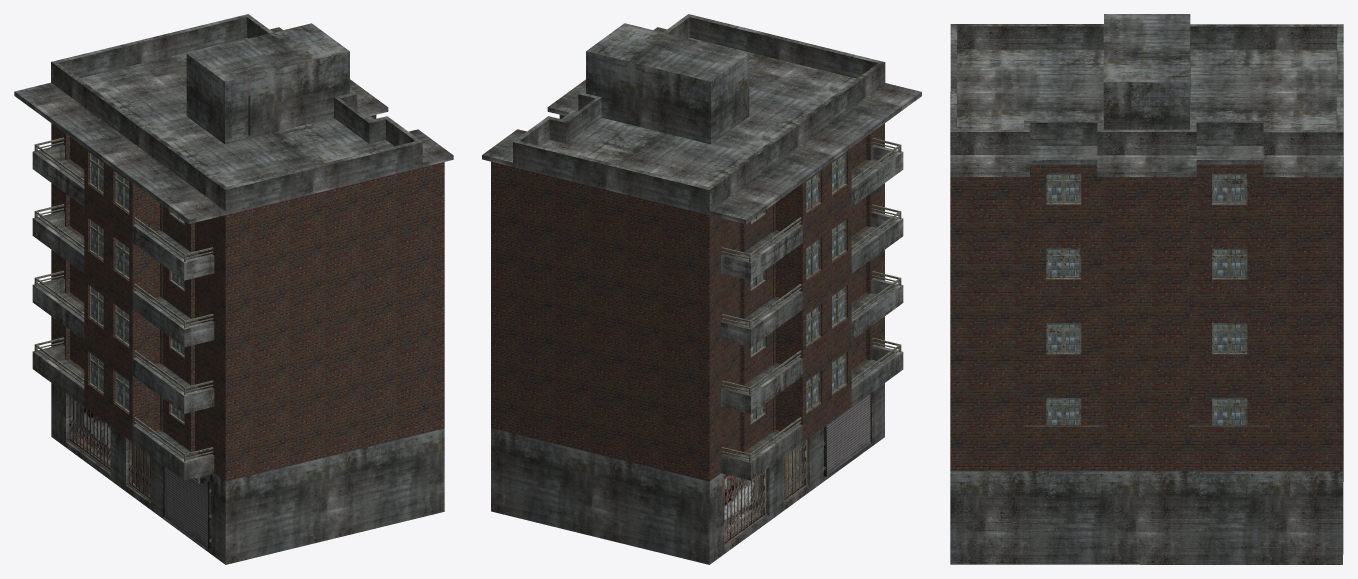
Rendered from hotel_neighbor.glb.
3 renders of one model, left to right at view 1: azimuth 30°, elevation 25°; view 2: azimuth 150°, elevation 25°; view 3: azimuth 270°, elevation 25°, orthographic. The views are drawn at different scales.
Visible parts, largest first — view 1: baseficio__1_Mat.4.4_0, baseficio__1_2_1_Mat_0, walls_Mat_0, balcony_2_Mat_0, balconyrails_Mat.1_0, garagedoor_1_f273f245.dds_0, frames_1_Mat_0, glassfront_Mat_0, Gate_1_234264e5.dds_0, steel_3_Mat_0, Gate2_234264e5.dds_0, Call38_2_2_Mat_0; view 2: baseficio__1_Mat.4.4_0, baseficio__1_2_1_Mat_0, walls_Mat_0, balcony_2_Mat_0, balconyrails_Mat.1_0, frames_1_Mat_0, garagedoor_1_f273f245.dds_0, glassfront_Mat_0, Gate_1_234264e5.dds_0, steel_3_Mat_0, Gate2_234264e5.dds_0; view 3: baseficio__1_Mat.4.4_0, baseficio__1_2_1_Mat_0, walls_Mat_0, glassfront_Mat_0, frames_1_Mat_0.
Part boxes in pixels (x1,y1,x2,y2): baseficio__1_Mat.4.4_0: (51, 115, 444, 481); baseficio__1_2_1_Mat_0: (14, 14, 453, 223); walls_Mat_0: (51, 383, 444, 564); balcony_2_Mat_0: (32, 144, 214, 480); balconyrails_Mat.1_0: (34, 137, 213, 461); garagedoor_1_f273f245.dds_0: (163, 465, 212, 549); frames_1_Mat_0: (89, 153, 184, 423); glassfront_Mat_0: (92, 154, 184, 420); Gate_1_234264e5.dds_0: (68, 396, 110, 472); steel_3_Mat_0: (74, 400, 110, 466); Gate2_234264e5.dds_0: (127, 440, 150, 501); Call38_2_2_Mat_0: (133, 443, 150, 495); baseficio__1_Mat.4.4_0: (491, 115, 884, 481); baseficio__1_2_1_Mat_0: (482, 14, 921, 223); walls_Mat_0: (491, 383, 884, 564); balcony_2_Mat_0: (721, 144, 903, 480); balconyrails_Mat.1_0: (722, 138, 901, 461); frames_1_Mat_0: (750, 153, 846, 424); garagedoor_1_f273f245.dds_0: (823, 392, 871, 476); glassfront_Mat_0: (750, 155, 843, 420); Gate_1_234264e5.dds_0: (724, 469, 766, 545); steel_3_Mat_0: (724, 473, 761, 540); Gate2_234264e5.dds_0: (784, 440, 807, 501); baseficio__1_Mat.4.4_0: (950, 89, 1343, 471); baseficio__1_2_1_Mat_0: (950, 14, 1343, 177); walls_Mat_0: (950, 389, 1343, 564); glassfront_Mat_0: (1048, 174, 1244, 425); frames_1_Mat_0: (1046, 173, 1247, 425).
Bounding box in the file's own units: 8.66 × 13 × 9.91.
Materials: 13 (13 with a texture image).
